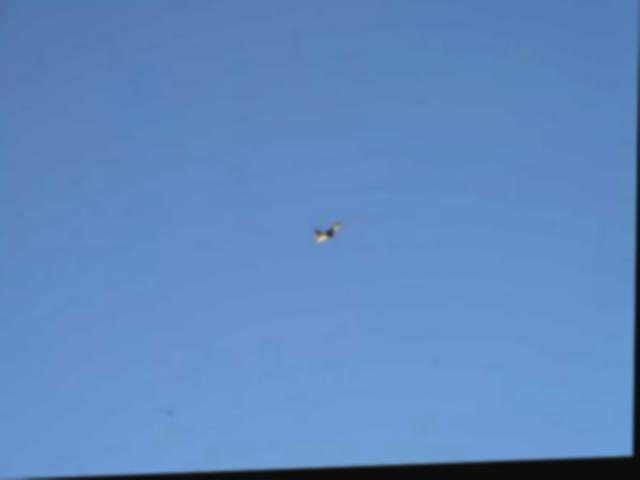uav: (308, 210, 350, 253)
